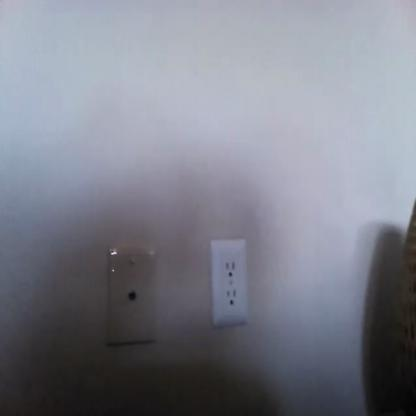OUTLET: (211, 238, 248, 325)
